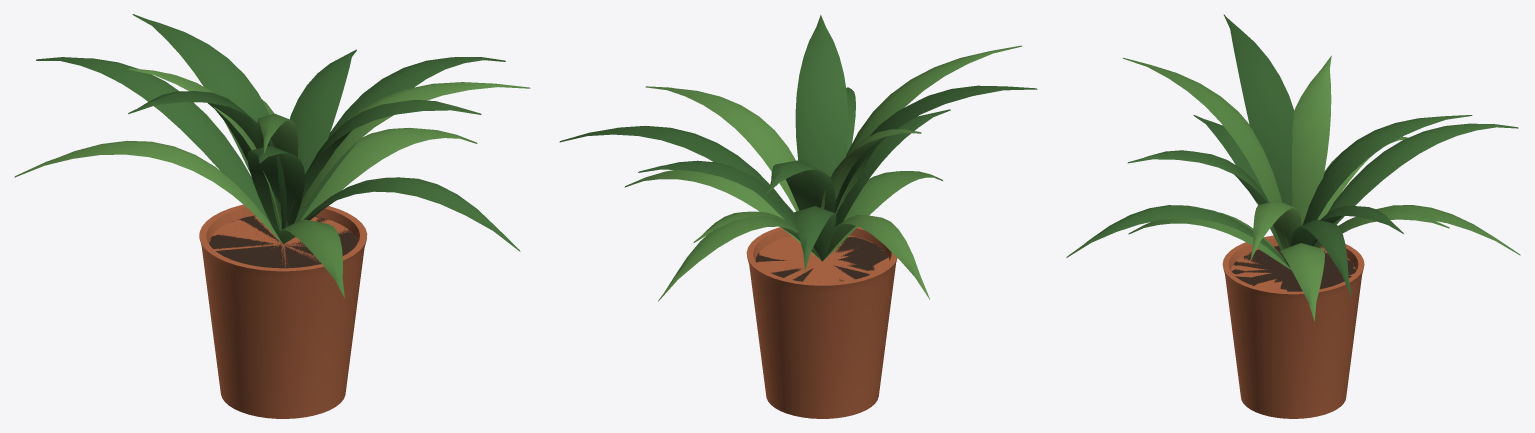
Rendered from planta.glb.
3 renders of one model, left to right at view 1: azimuth 30°, elevation 25°; view 2: azimuth 150°, elevation 25°; view 3: azimuth 270°, elevation 25°, orthographic. The views are drawn at different scales.
Visible parts, largest first — view 1: p; view 2: p; view 3: p.
Part boxes in pixels (x1,y1,x2,y2): p: [14, 14, 530, 418]; p: [559, 14, 1037, 418]; p: [1066, 14, 1520, 418].
Bounding box in the file's own units: 1.09 × 0.8213 × 1.12.
